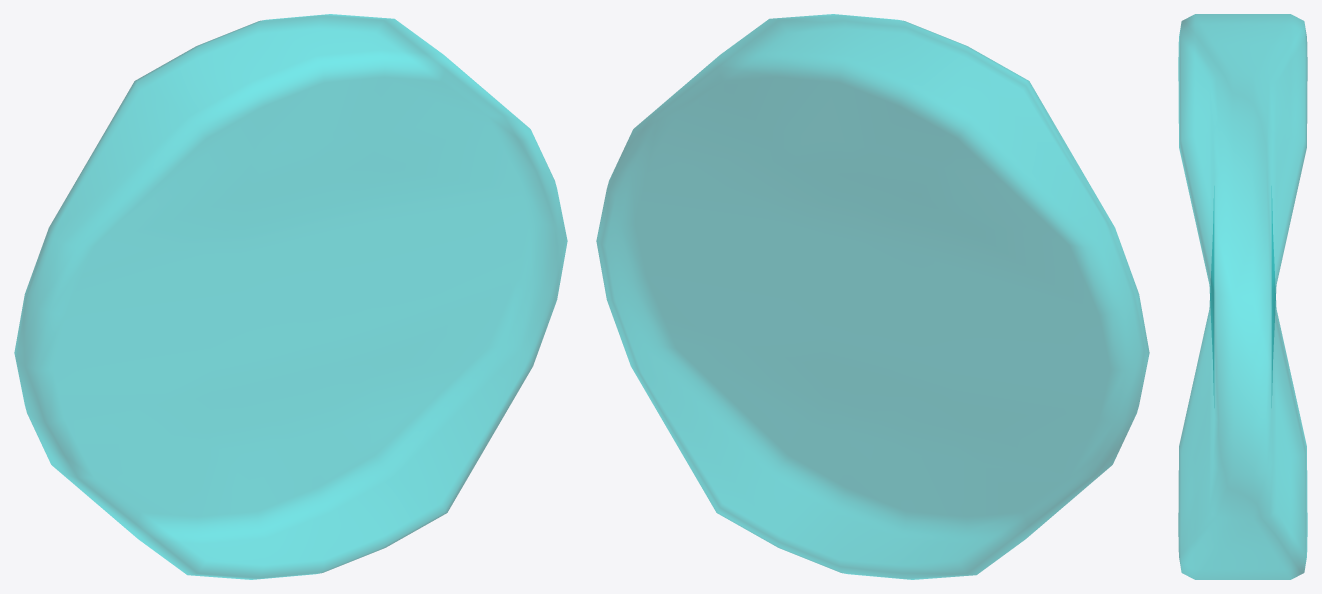
Rendered from concave lens.fbx.
3 views of the same model, side by side, from view 1: azimuth 30°, elevation 25°; view 2: azimuth 150°, elevation 25°; view 3: azimuth 270°, elevation 25° (orthographic). The views are drawn at different scales.
Parts seen in each view (by area): view 1: concave; view 2: concave; view 3: concave.
Boxes of the visible parts, x1,y1,x2,y2 form: concave: (14, 14, 567, 579); concave: (596, 14, 1149, 579); concave: (1178, 14, 1307, 579).
Size of the model in its own units: 118 by 108 by 25.09.
